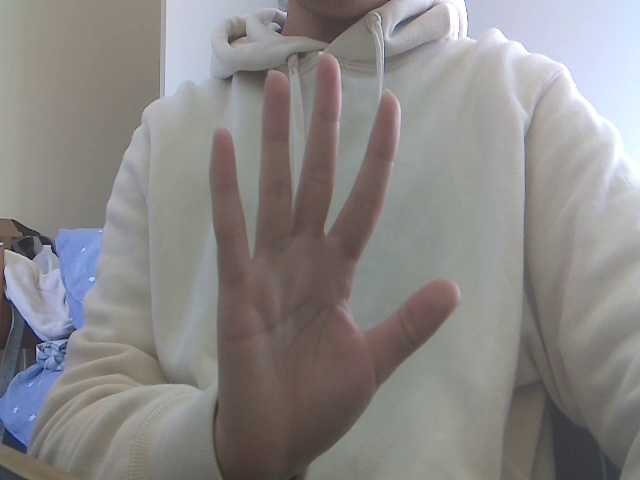hand_gesture_5: (185, 39, 481, 480)
